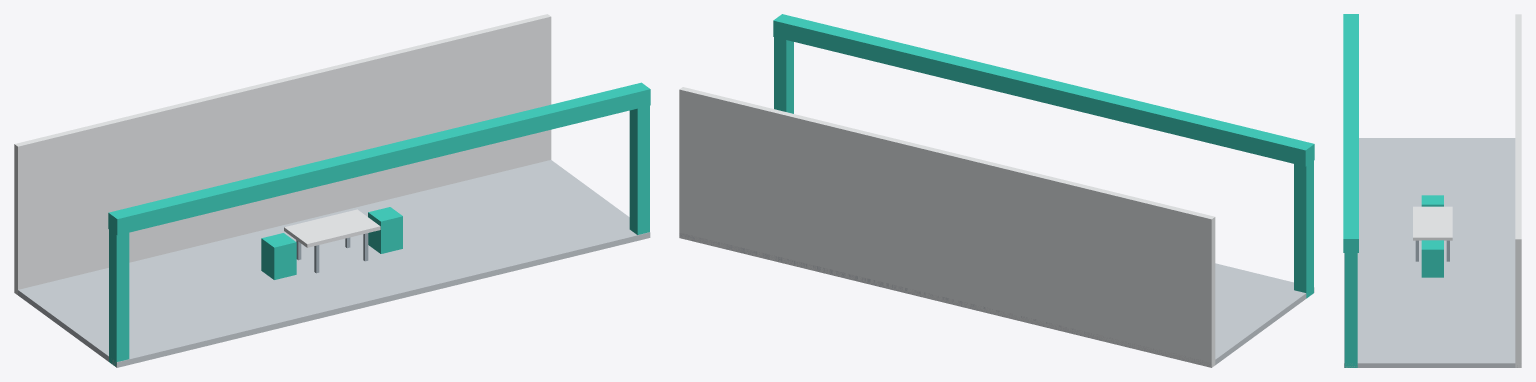
3 renders of one model, left to right at view 1: azimuth 30°, elevation 25°; view 2: azimuth 150°, elevation 25°; view 3: azimuth 270°, elevation 25°, orthographic. The views are drawn at different scales.
Visible parts, largest first — view 1: Exhibition Booth Concept; view 2: Exhibition Booth Concept; view 3: Exhibition Booth Concept.
Part boxes in pixels (box(x1,y1,x2,y2)): Exhibition Booth Concept: box(14, 14, 650, 367); Exhibition Booth Concept: box(679, 14, 1314, 367); Exhibition Booth Concept: box(1343, 14, 1521, 367).
Size of the model in its own units: 12 by 3.2 by 4.02.
